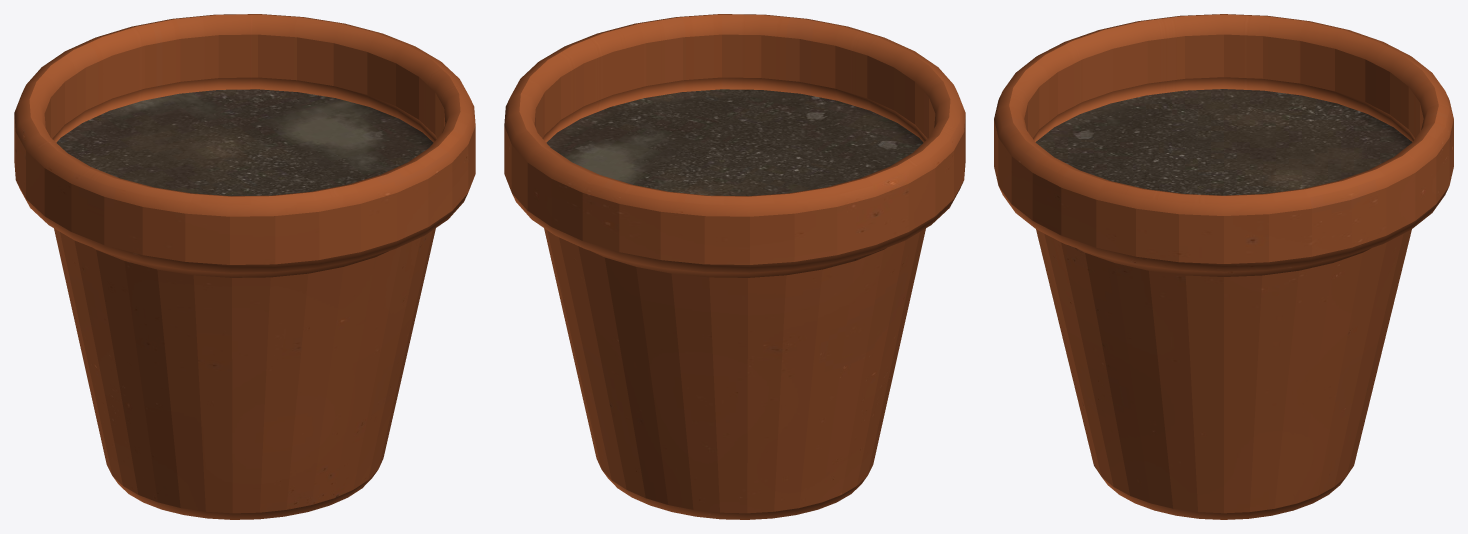
File: plant pot.fbx
The picture shows the model from 3 angles, left to right: view 1: azimuth 30°, elevation 25°; view 2: azimuth 150°, elevation 25°; view 3: azimuth 270°, elevation 25°; orthographic projection.
Visible parts, largest first — view 1: Cylinder.004; view 2: Cylinder.004; view 3: Cylinder.004.
Part boxes in pixels (bbox=[...]): Cylinder.004: bbox=[14, 14, 475, 519]; Cylinder.004: bbox=[504, 14, 965, 519]; Cylinder.004: bbox=[994, 14, 1453, 519].
Bounding box in the file's own units: 75.38 × 65.48 × 75.38.
Materials: 2 (2 with a texture image).
